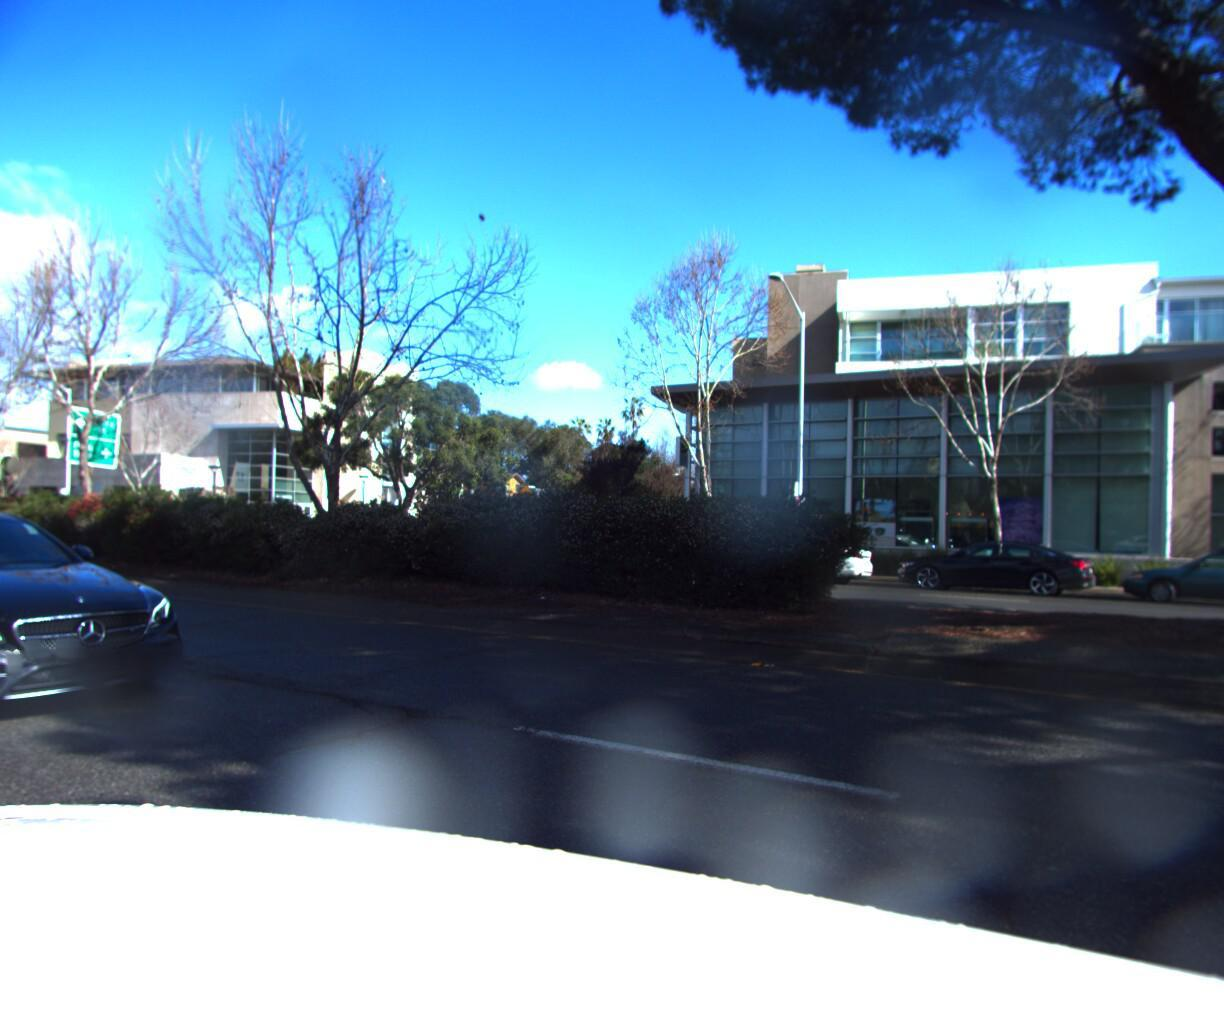car: (0, 508, 222, 757), (890, 534, 1098, 604), (703, 527, 879, 589), (1114, 538, 1224, 617), (0, 505, 9, 601)
